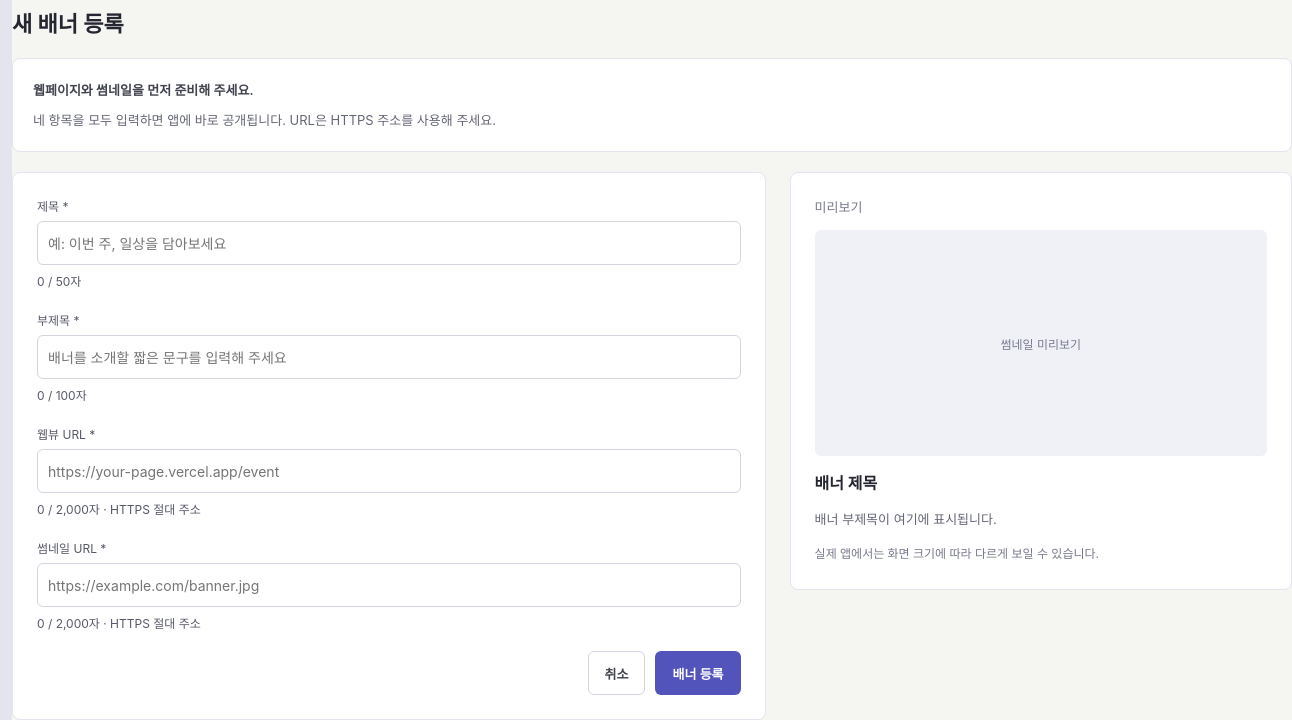
Test: banner screens › validates fields before allowing registration
(page scrolled)
Click the button "배너 등록".
click(698, 673)  # box x1=656 y1=651 x2=741 y2=695
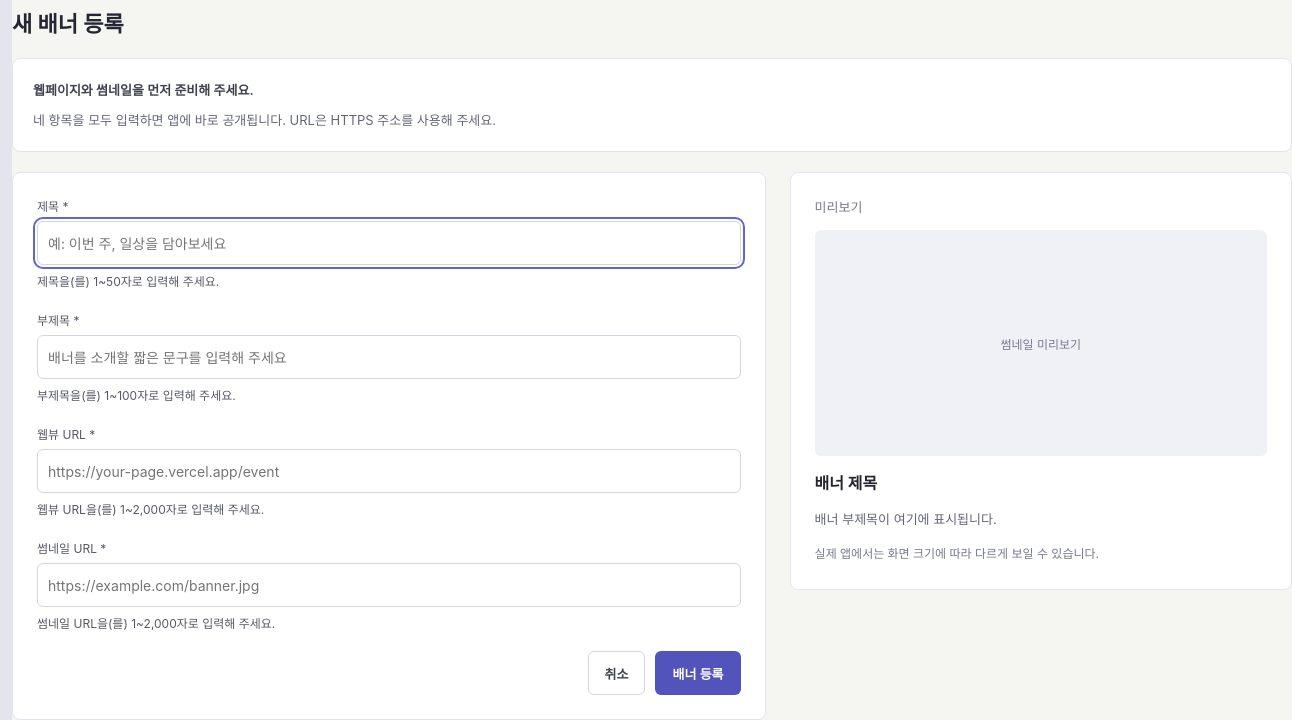
Now the text "제목을(를) 1~50자로 입력해 주세요." is shown, box x1=37 y1=274 x2=219 y2=289
